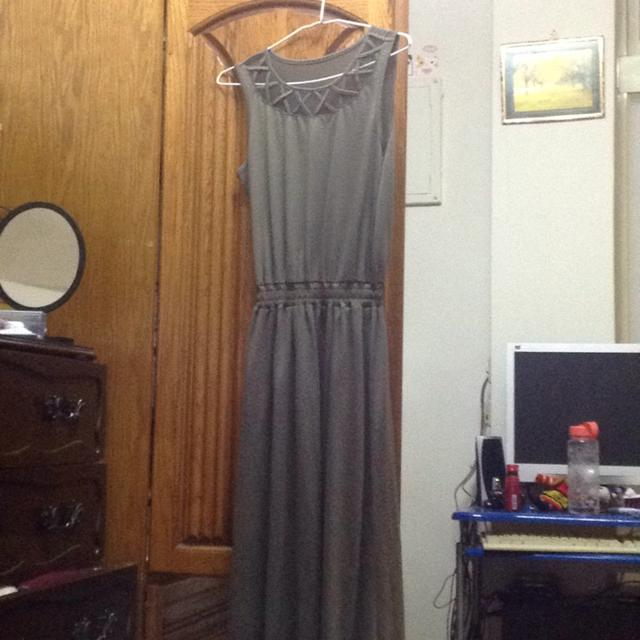Dresses: (233, 24, 401, 640)
